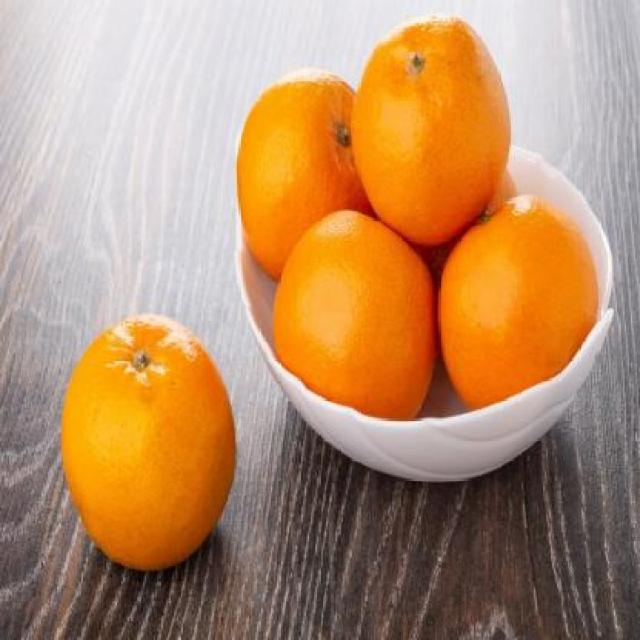Orange: (58, 312, 237, 571), (349, 12, 511, 246), (437, 194, 598, 409), (271, 208, 435, 418), (234, 68, 369, 278)
